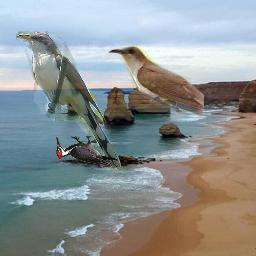Cuckoo: (16, 31, 121, 170), (106, 46, 204, 118)
Woodpecker: (56, 136, 118, 166)
